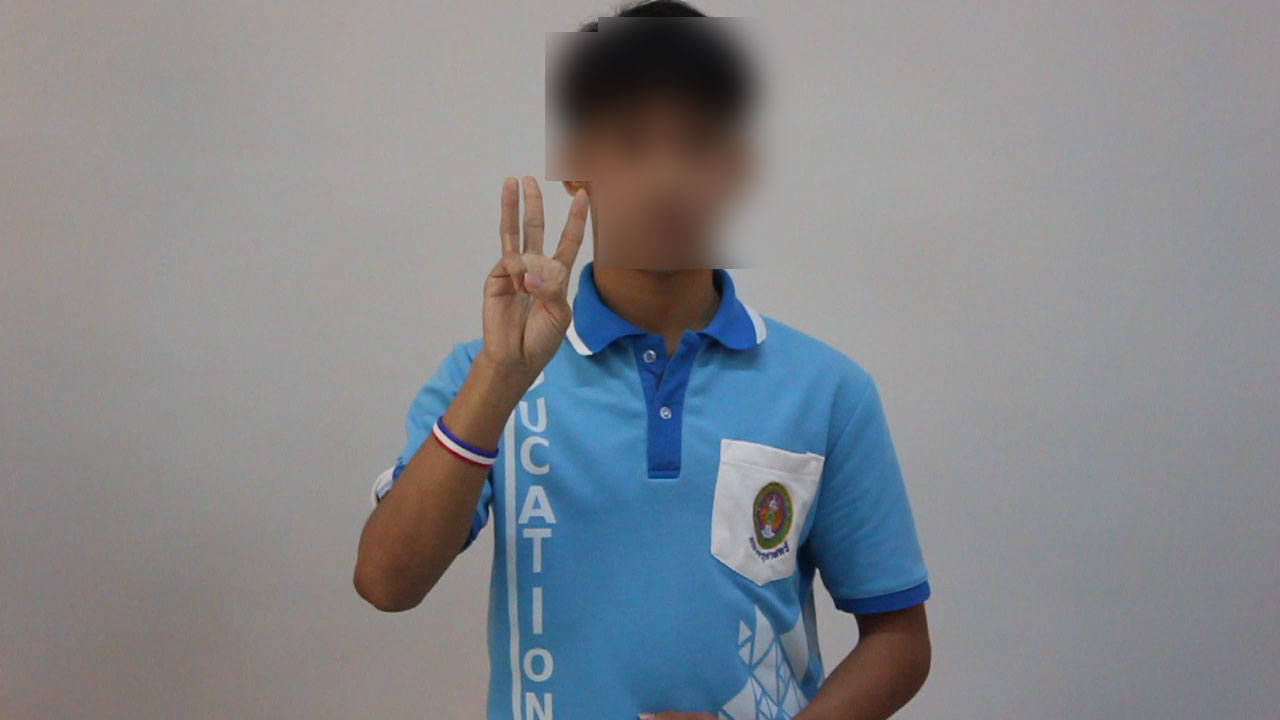wor: (472, 166, 592, 383)
